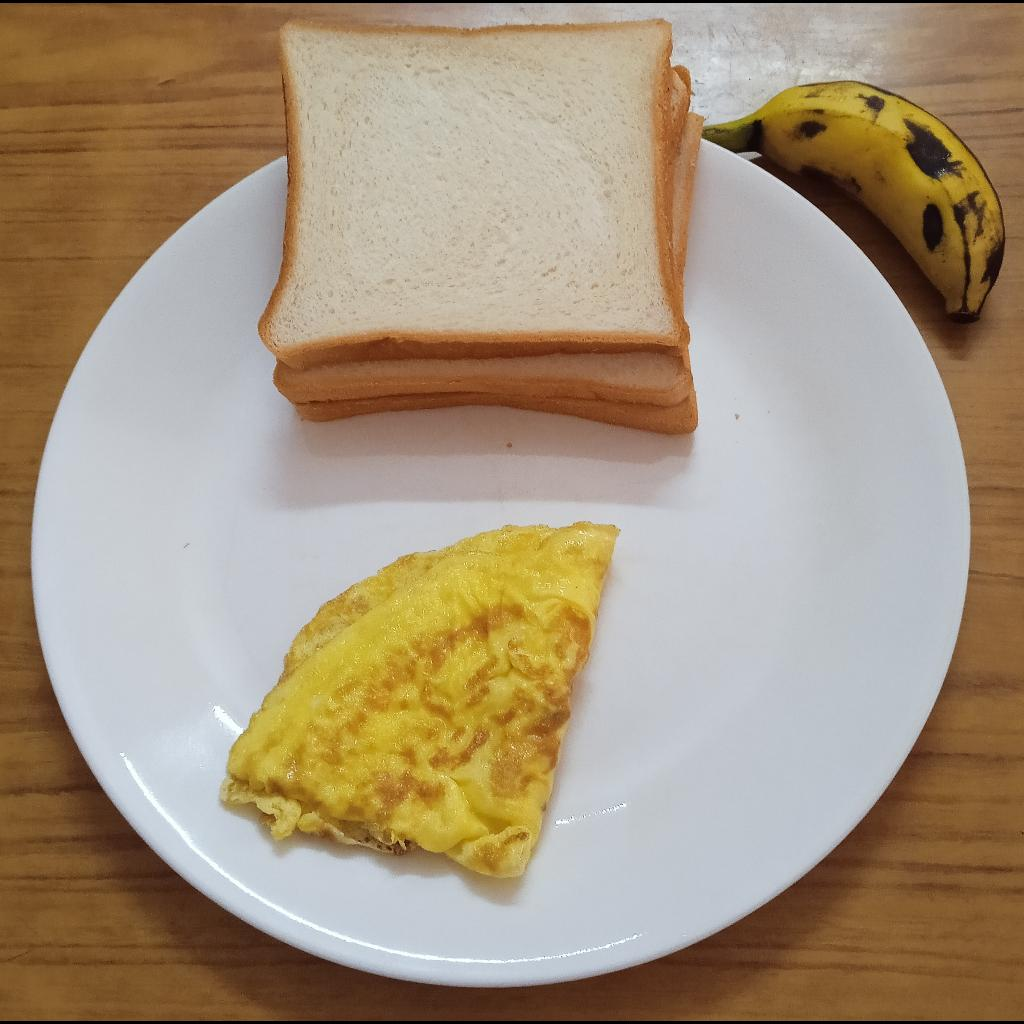banana: (708, 80, 1006, 324)
bread: (258, 15, 704, 434)
egg-poached: (220, 525, 621, 882)
